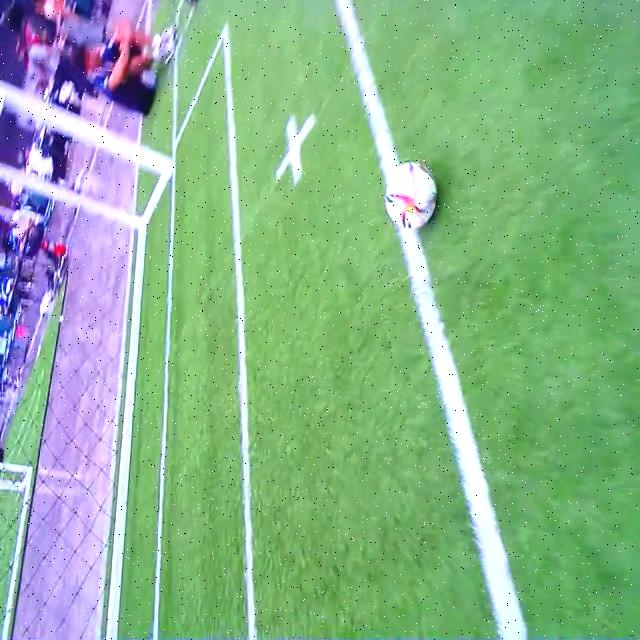ball: (384, 156, 437, 230)
